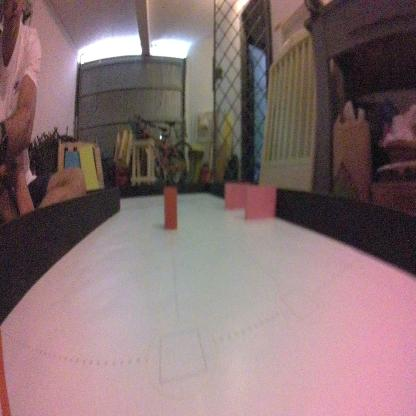magenta: (244, 184, 277, 222), (224, 182, 250, 210)
red: (162, 183, 178, 231)
